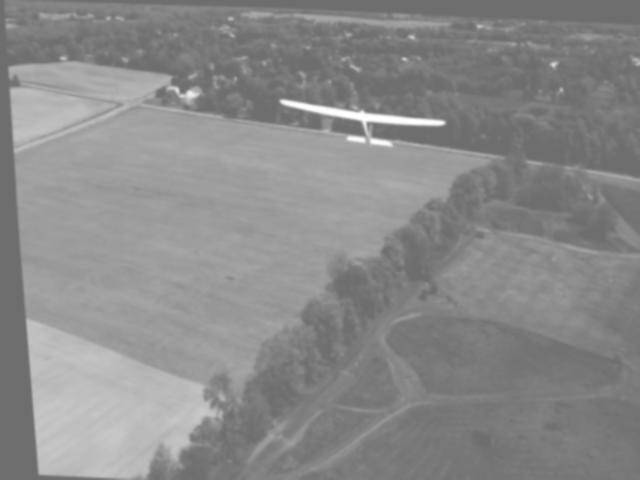hedef: (276, 89, 455, 162)
